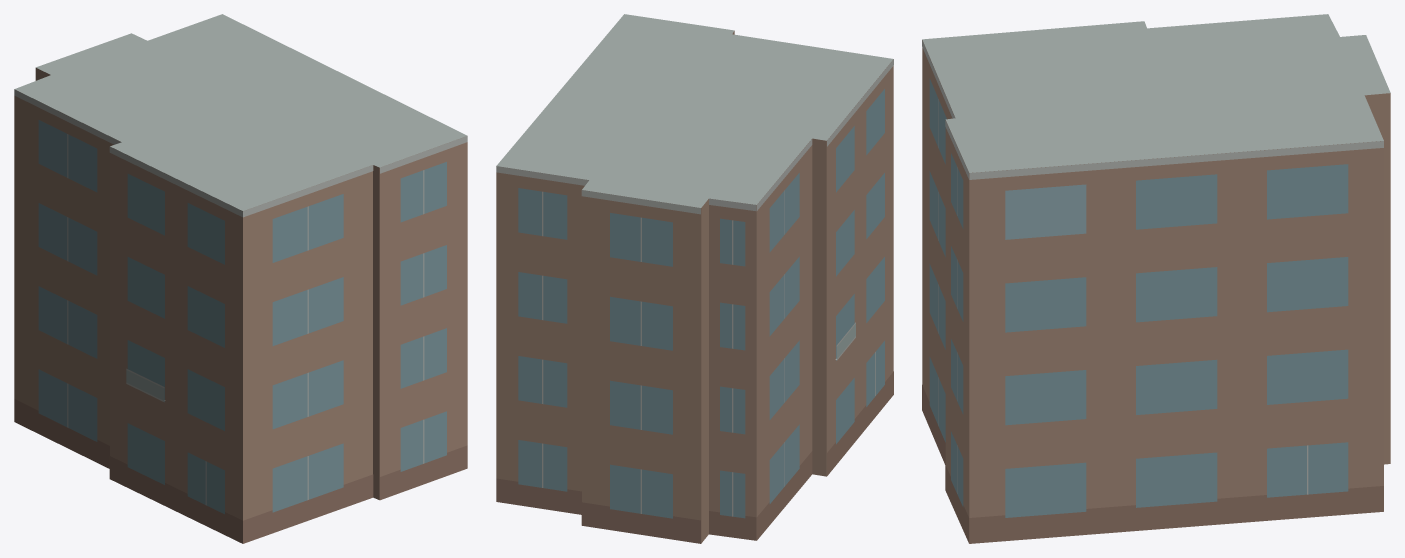
The model's file is survey-upis-32744809.glb.
3 views of the same model, side by side, from view 1: azimuth 30°, elevation 25°; view 2: azimuth 150°, elevation 25°; view 3: azimuth 270°, elevation 25° (orthographic). The views are drawn at different scales.
Visible parts, largest first — view 1: survey-upis-32744809.tmp; view 2: survey-upis-32744809.tmp; view 3: survey-upis-32744809.tmp.
Part boxes in pixels (x1,y1,x2,y2): survey-upis-32744809.tmp: [14, 14, 467, 543]; survey-upis-32744809.tmp: [496, 14, 893, 543]; survey-upis-32744809.tmp: [922, 14, 1390, 543].
Size of the model in its own units: 11.87 by 12.9 by 14.78.
